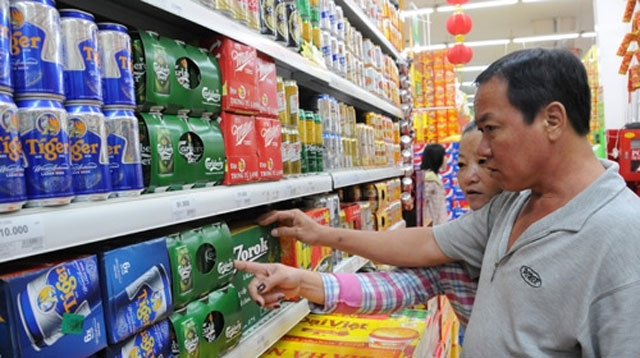tiger: (24, 136, 69, 160), (55, 269, 78, 314), (136, 288, 152, 327)
zorok: (234, 238, 269, 261)
